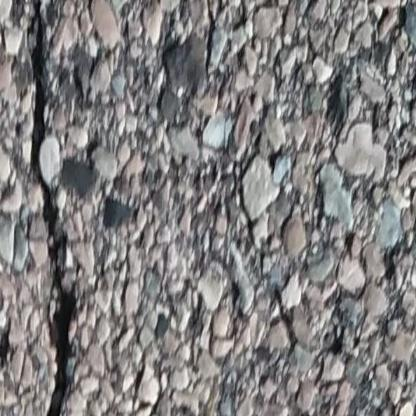Cracks: (15, 0, 83, 416), (132, 402, 162, 416)
